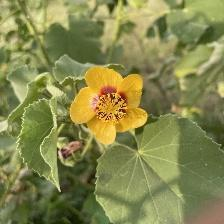indian mallow: (70, 66, 153, 147)
